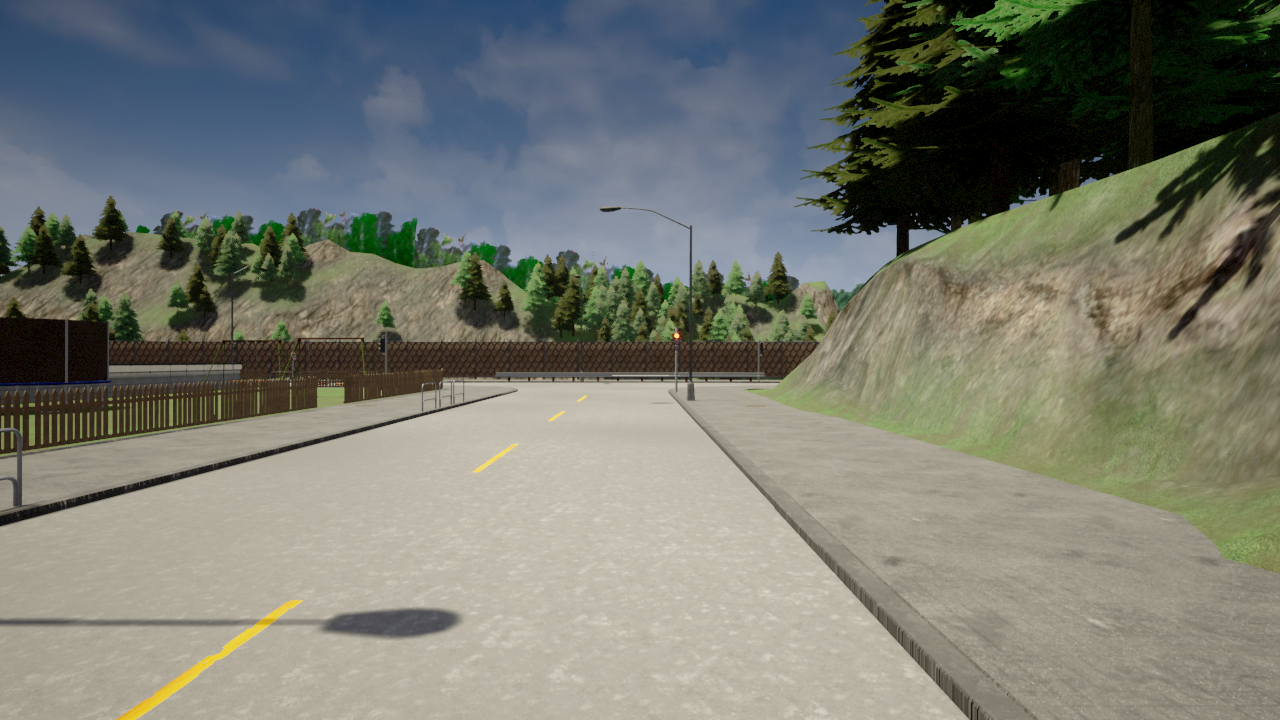red: (673, 332, 680, 351)
